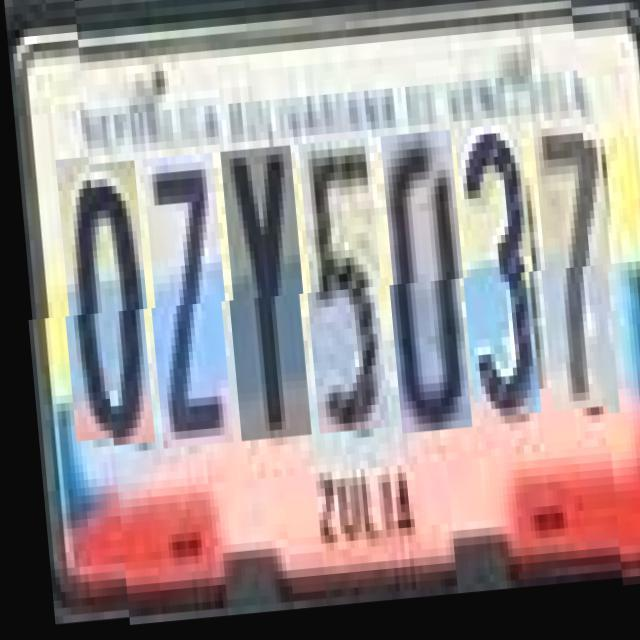0: (378, 138, 468, 440)
3: (451, 133, 537, 427)
5: (295, 145, 385, 439)
7: (528, 128, 614, 422)
O: (53, 162, 151, 450)
Y: (217, 151, 307, 445)
Z: (139, 157, 229, 450)
